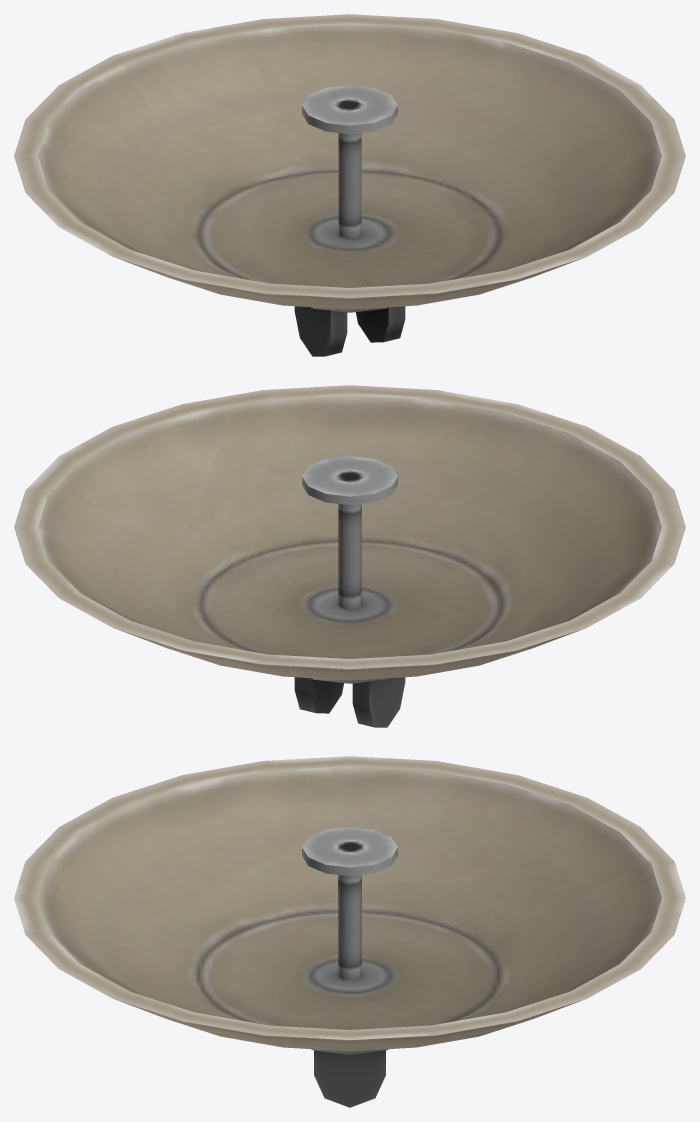
Rendered from Ara_Antenna_1.obj.
3 renders of one model, top to bottom at view 1: azimuth 30°, elevation 25°; view 2: azimuth 150°, elevation 25°; view 3: azimuth 270°, elevation 25°, orthographic.
Visible parts, largest first — view 1: Ara_Antenna_1; view 2: Ara_Antenna_1; view 3: Ara_Antenna_1.
Part boxes in pixels (bbox=[...]): Ara_Antenna_1: bbox=[14, 14, 685, 356]; Ara_Antenna_1: bbox=[14, 385, 685, 727]; Ara_Antenna_1: bbox=[14, 756, 685, 1107].
Size of the model in its own units: 0.875 by 0.3481 by 0.875.
